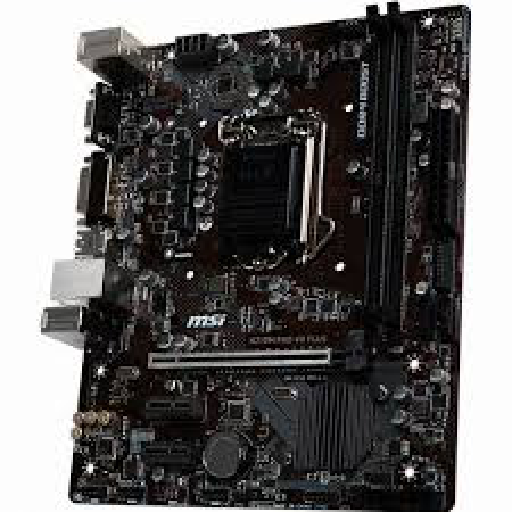CPU: (212, 115, 325, 265)
GPU: (144, 344, 370, 374)
MOTHERBOARD: (33, 5, 467, 509)
RAM: (360, 4, 416, 331)
